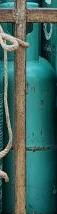cylinder: (1, 1, 57, 214)
